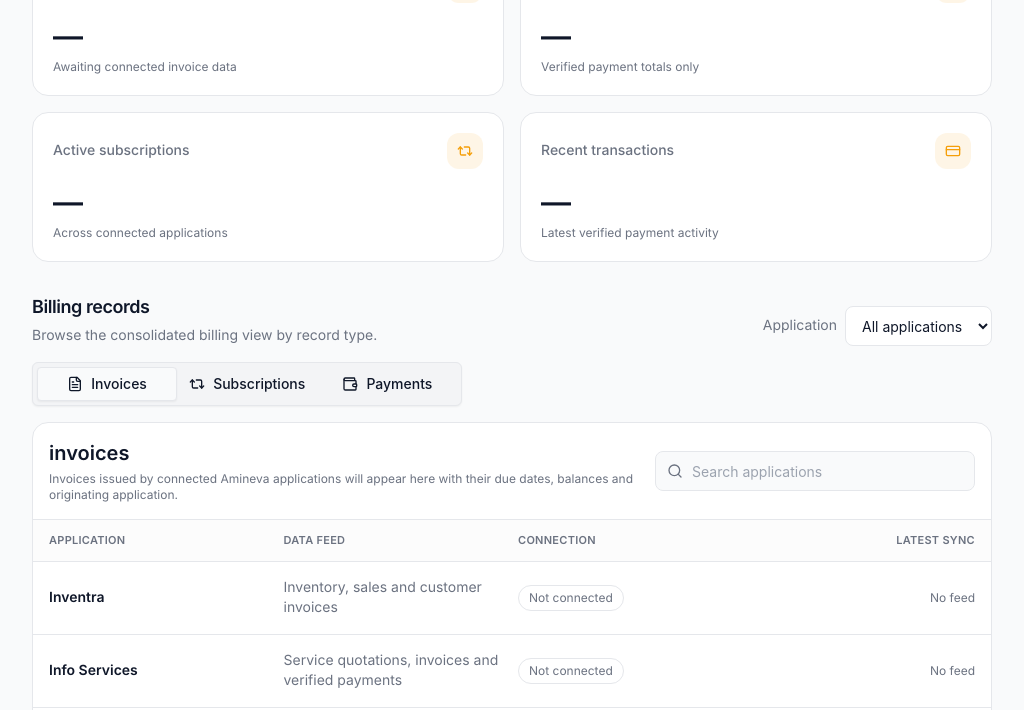
Scenario: Amineva Switch dashboard › switches between invoice, subscription and payment empty states without inventing records
Radix Tabs activates its triggers on the primary-button mousedown event.
Press the mouse on the tab "Subscriptions" at (247, 384), box [177, 368, 317, 400]
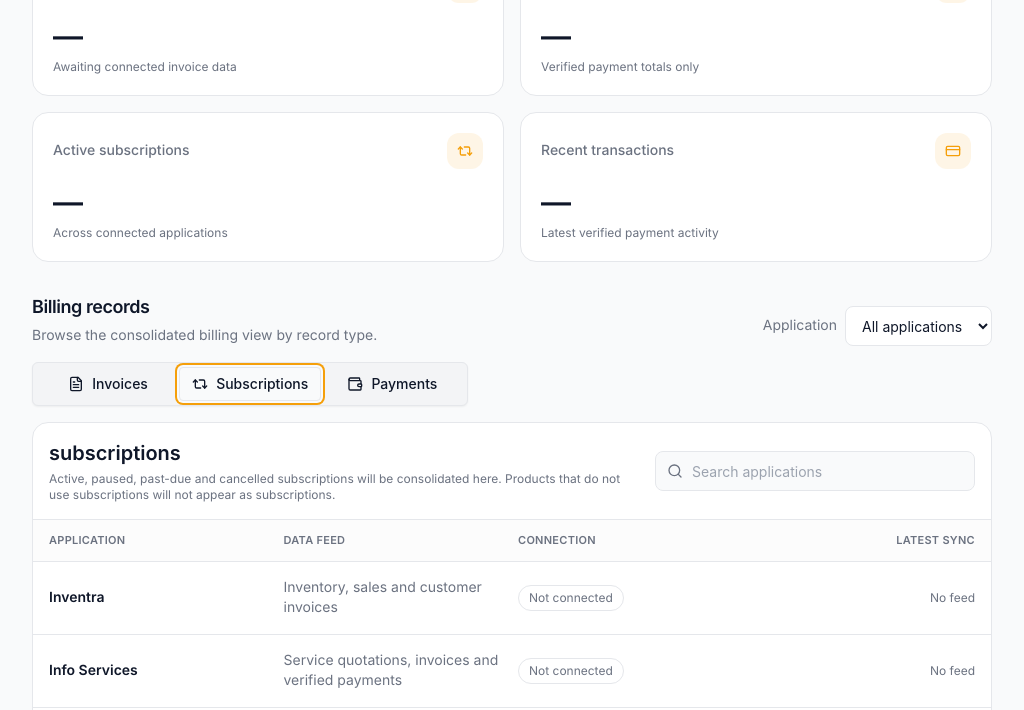
Press the mouse on the tab "Payments" at (392, 384), box [321, 368, 464, 400]
(page scrolled)
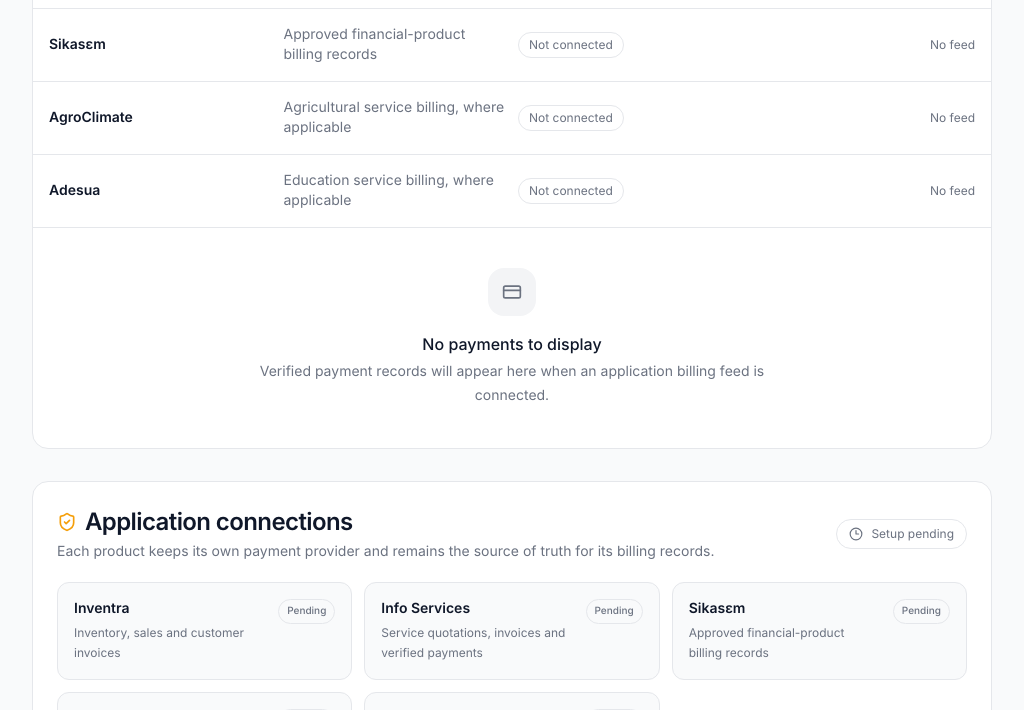
Now the text "Verified payment records will appear here when an application billing feed is connected." is shown, box [260, 362, 764, 404]
